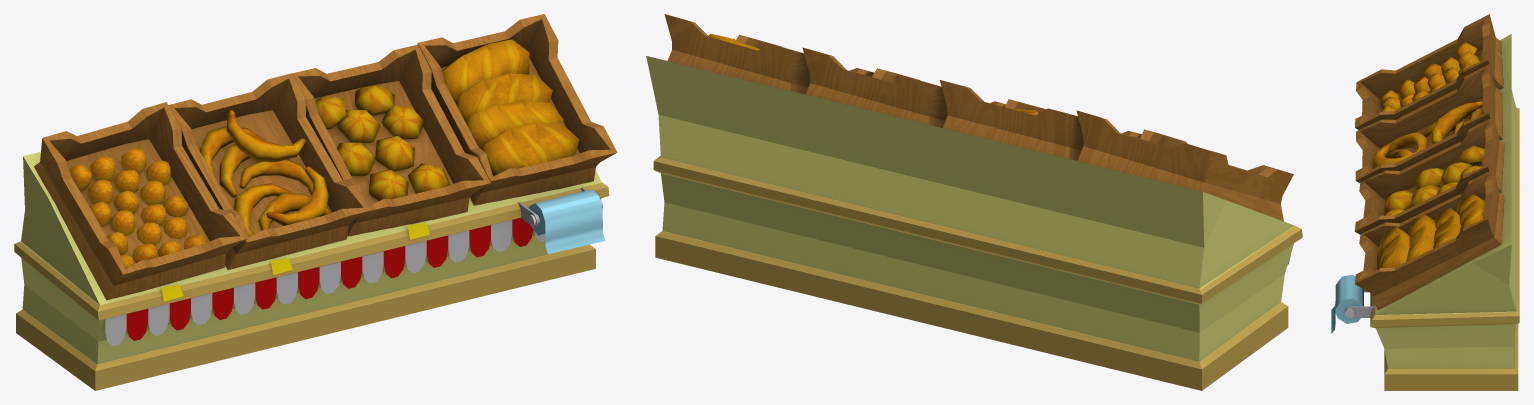
File: interior_display_stand_bakery_001_gr_mesh.FBX
The picture shows the model from 3 angles, left to right: view 1: azimuth 30°, elevation 25°; view 2: azimuth 150°, elevation 25°; view 3: azimuth 270°, elevation 25°; orthographic projection. The views are drawn at different scales.
Parts seen in each view (by area): view 1: interior_display_stand_bakery_001_gr; view 2: interior_display_stand_bakery_001_gr; view 3: interior_display_stand_bakery_001_gr.
Boxes of the visible parts, x1,y1,x2,y2 form: interior_display_stand_bakery_001_gr: (14,14,617,390); interior_display_stand_bakery_001_gr: (646,14,1302,390); interior_display_stand_bakery_001_gr: (1331,14,1519,390).
Bounding box in the file's own units: 28.97 × 11.31 × 10.78.
